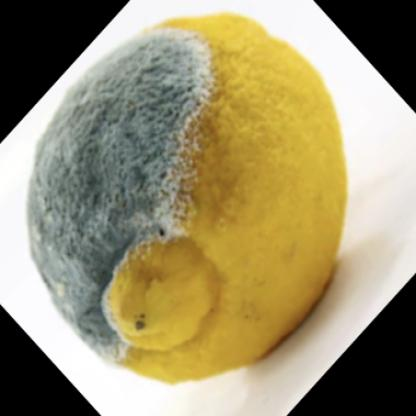rotten: (27, 15, 346, 384)
